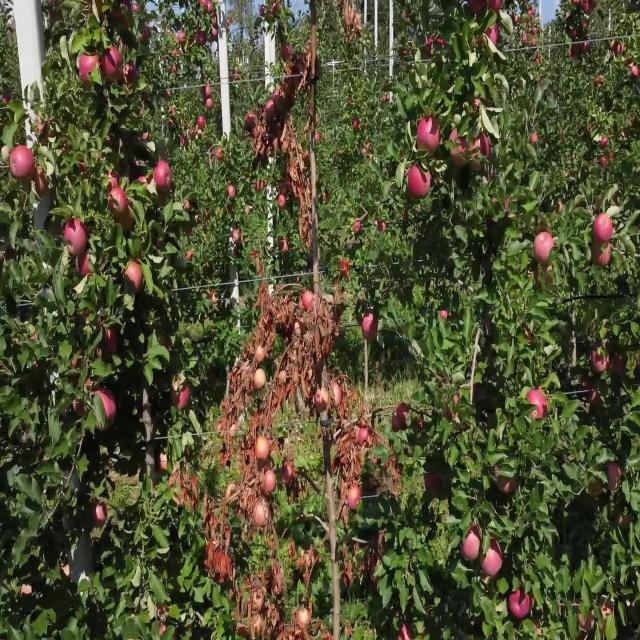apple: (72, 376, 93, 420), (408, 163, 432, 199), (64, 220, 88, 256), (12, 149, 35, 185), (484, 540, 504, 578), (420, 120, 440, 155), (452, 127, 468, 169), (508, 590, 530, 620), (96, 391, 116, 423), (496, 469, 519, 496), (464, 526, 481, 562), (104, 49, 123, 80), (124, 263, 144, 292), (472, 135, 488, 171), (108, 191, 128, 219), (528, 391, 547, 420), (536, 234, 555, 263), (592, 241, 612, 268), (172, 383, 191, 411), (596, 213, 613, 242), (36, 163, 49, 199), (172, 476, 187, 507), (156, 163, 172, 192), (592, 348, 608, 377), (112, 7, 132, 30), (616, 504, 632, 532), (364, 312, 379, 341), (608, 462, 623, 491), (600, 604, 615, 633), (580, 604, 595, 633), (80, 56, 95, 85), (104, 327, 119, 356), (120, 206, 136, 233), (40, 113, 56, 140), (608, 355, 626, 377), (588, 476, 604, 498), (444, 398, 460, 420), (424, 476, 442, 494), (476, 135, 491, 156), (264, 469, 276, 494), (108, 327, 118, 356), (256, 440, 269, 462), (396, 405, 408, 428), (468, 0, 485, 16), (96, 504, 108, 526), (80, 255, 92, 277), (284, 462, 296, 484), (108, 170, 120, 192), (124, 63, 136, 85), (80, 156, 91, 180), (544, 263, 556, 284), (472, 99, 483, 119), (232, 227, 244, 245), (48, 7, 63, 21), (280, 177, 292, 194), (284, 78, 294, 98), (72, 355, 82, 375), (96, 56, 106, 76), (392, 412, 401, 434), (340, 263, 352, 279), (160, 334, 172, 350), (488, 28, 498, 46), (428, 35, 436, 57), (356, 14, 364, 36), (400, 625, 412, 639), (160, 604, 168, 624), (268, 99, 276, 119), (140, 177, 152, 190), (525, 334, 535, 347), (592, 391, 601, 405), (492, 0, 501, 14), (632, 63, 640, 78), (228, 184, 236, 199), (65, 561, 72, 578), (24, 583, 32, 597), (528, 597, 536, 610), (284, 241, 291, 254), (356, 220, 361, 235), (280, 199, 288, 208), (284, 49, 291, 59), (276, 92, 282, 103), (620, 42, 624, 55), (612, 42, 616, 53), (440, 42, 445, 50)
